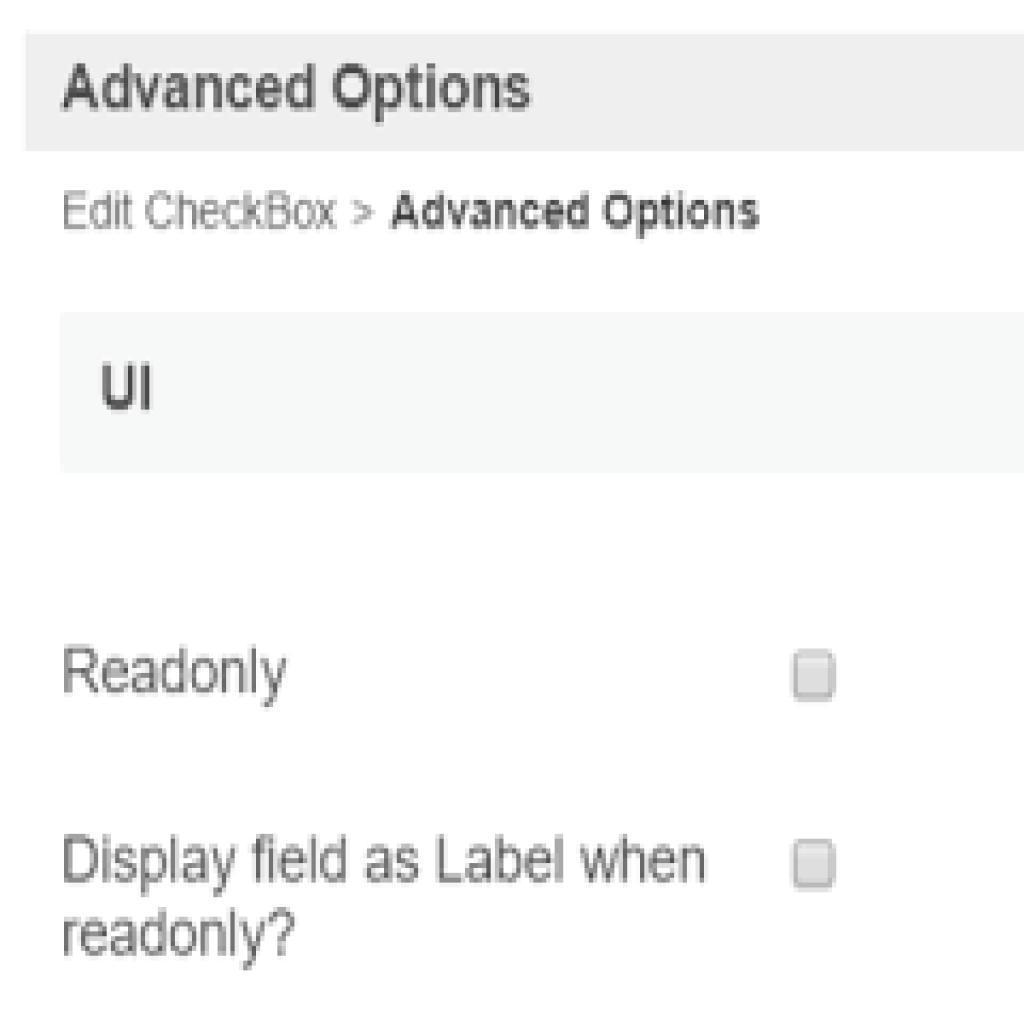checkbox: (791, 833, 841, 896), (791, 647, 837, 700)
input: (60, 316, 1018, 471)
